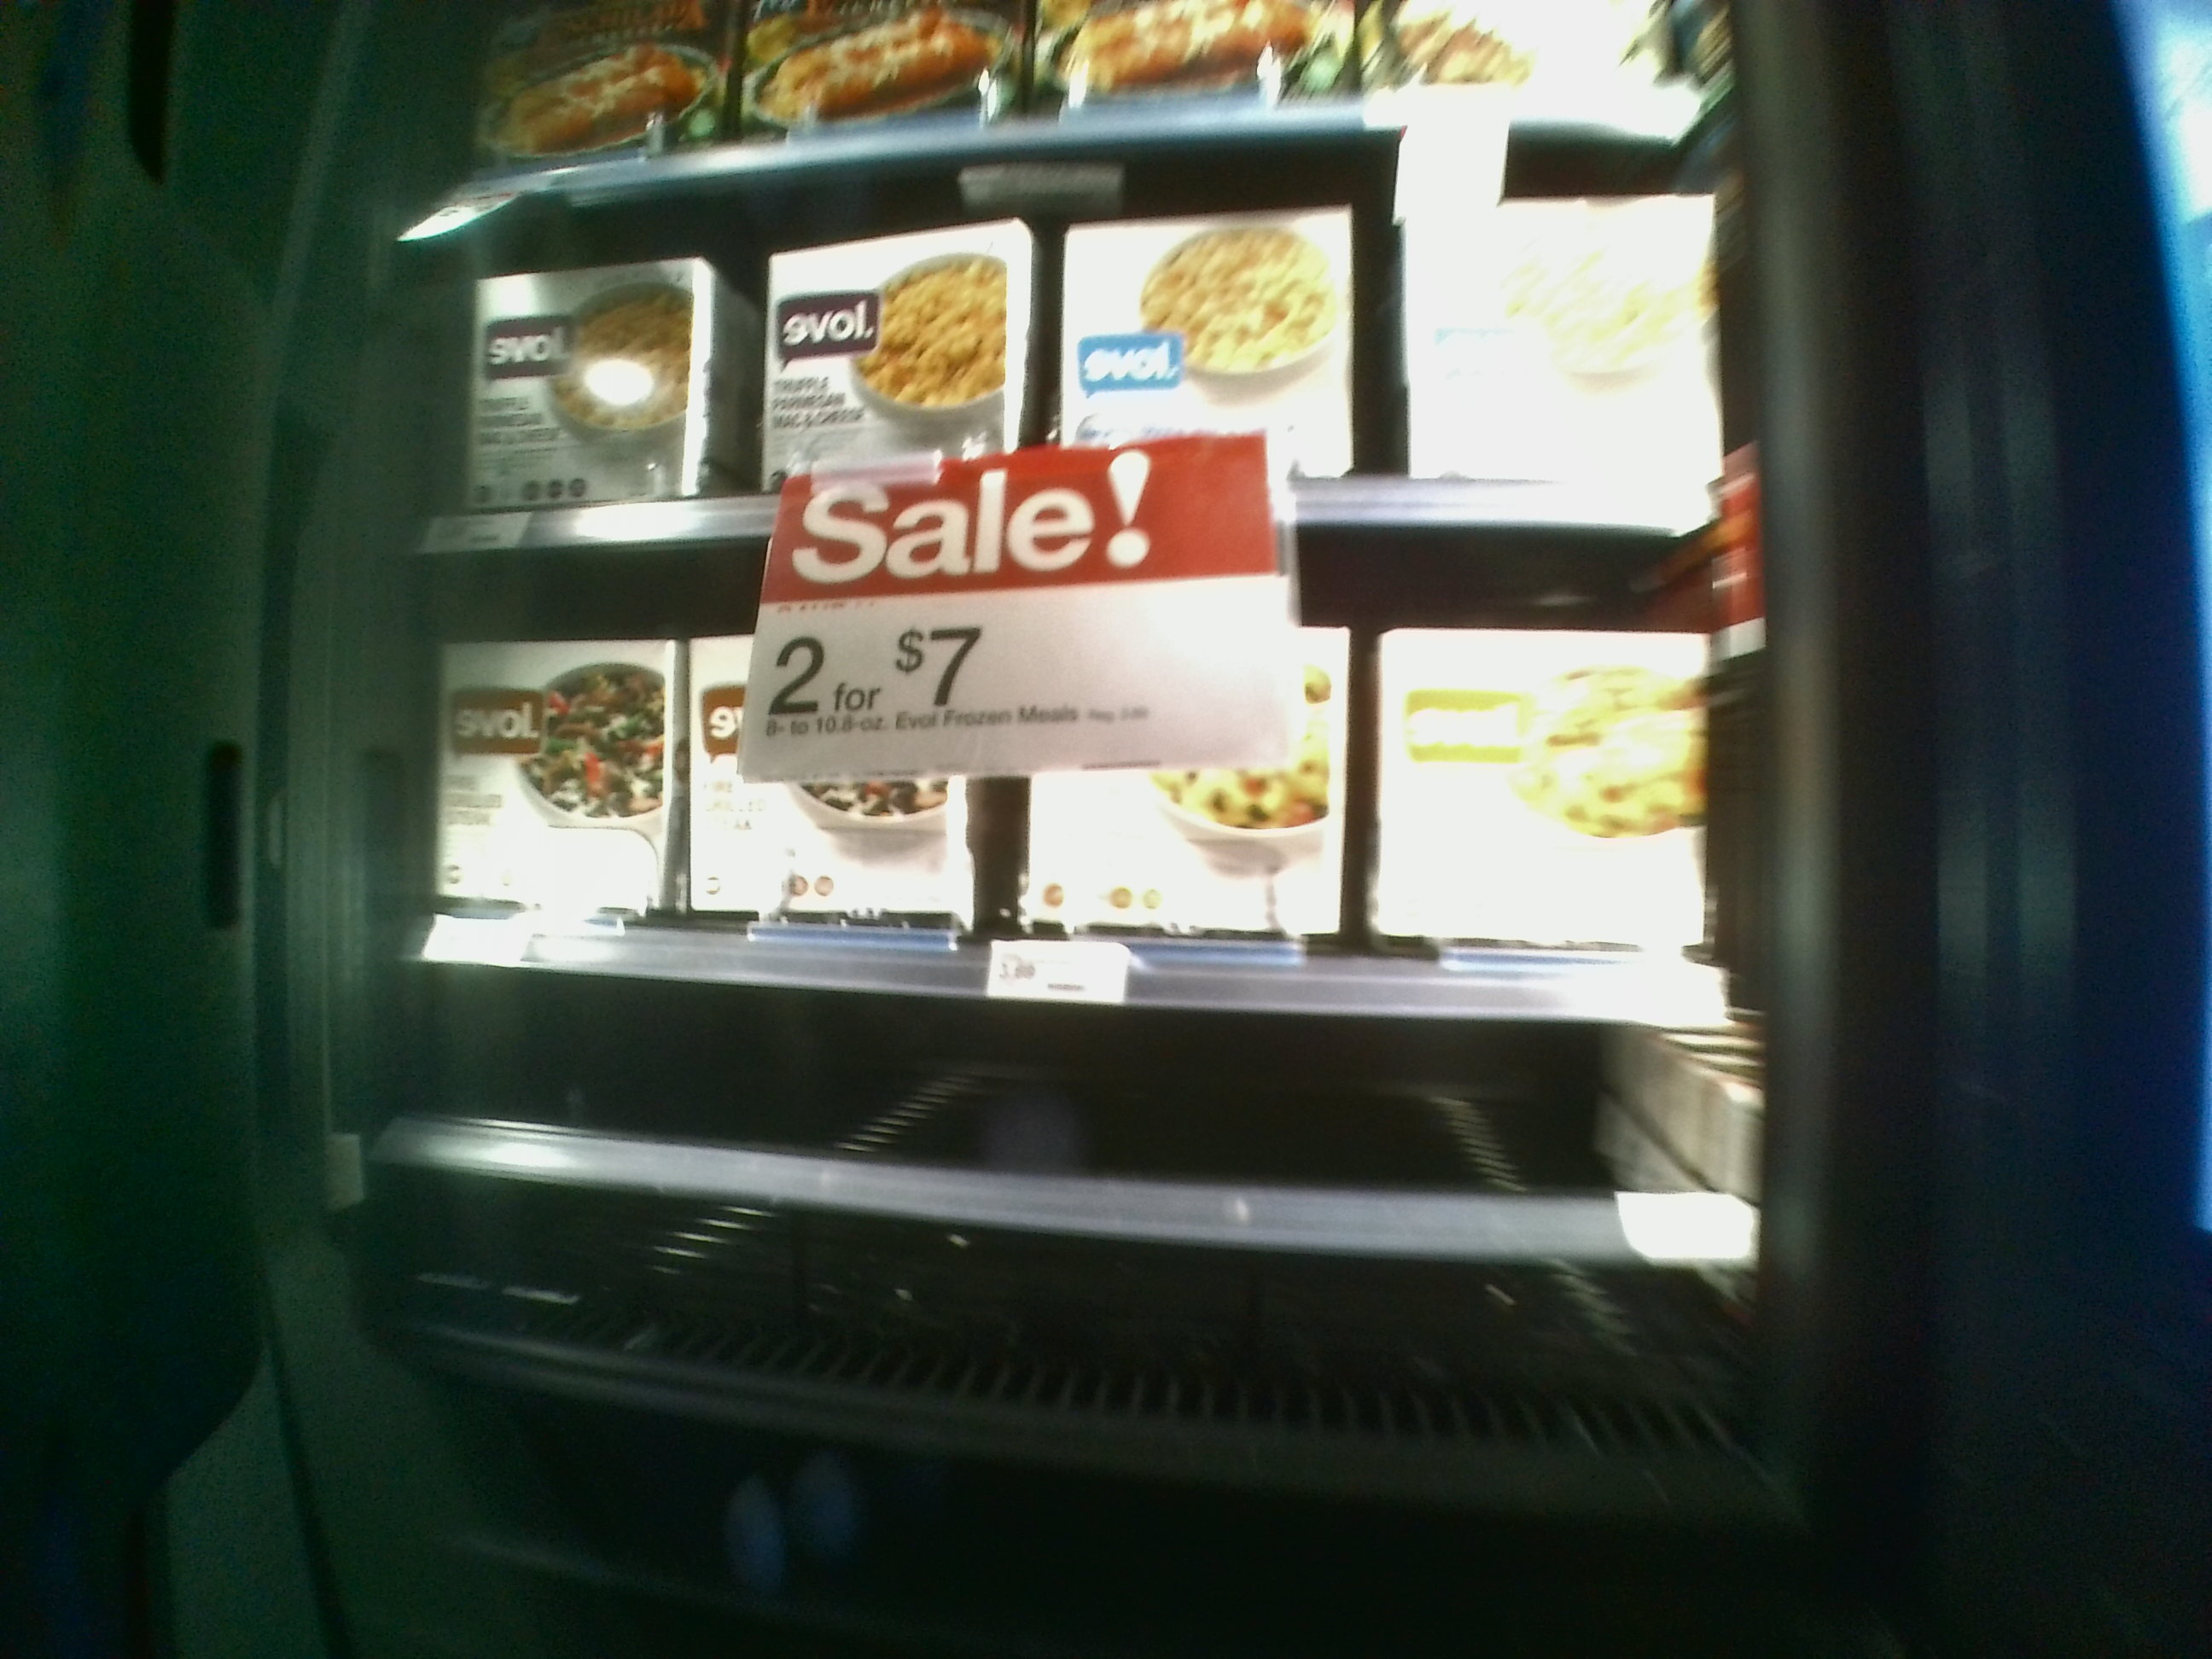shelf: (409, 521, 1763, 997), (402, 1004, 1749, 1392), (416, 143, 1731, 523)
